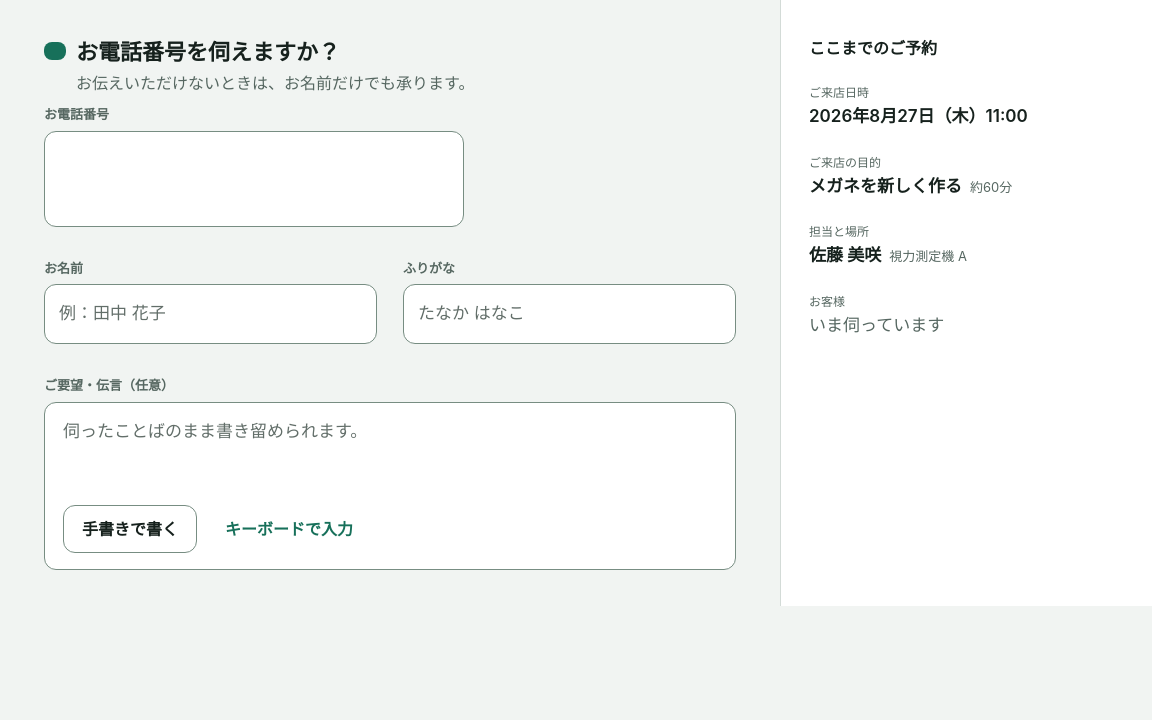
it: 手書き › 「手書きで書く」を押すと罫線つきの用紙が出る
Click the button "手書きで書く" at (130, 528), box 63,504 -> 197,552
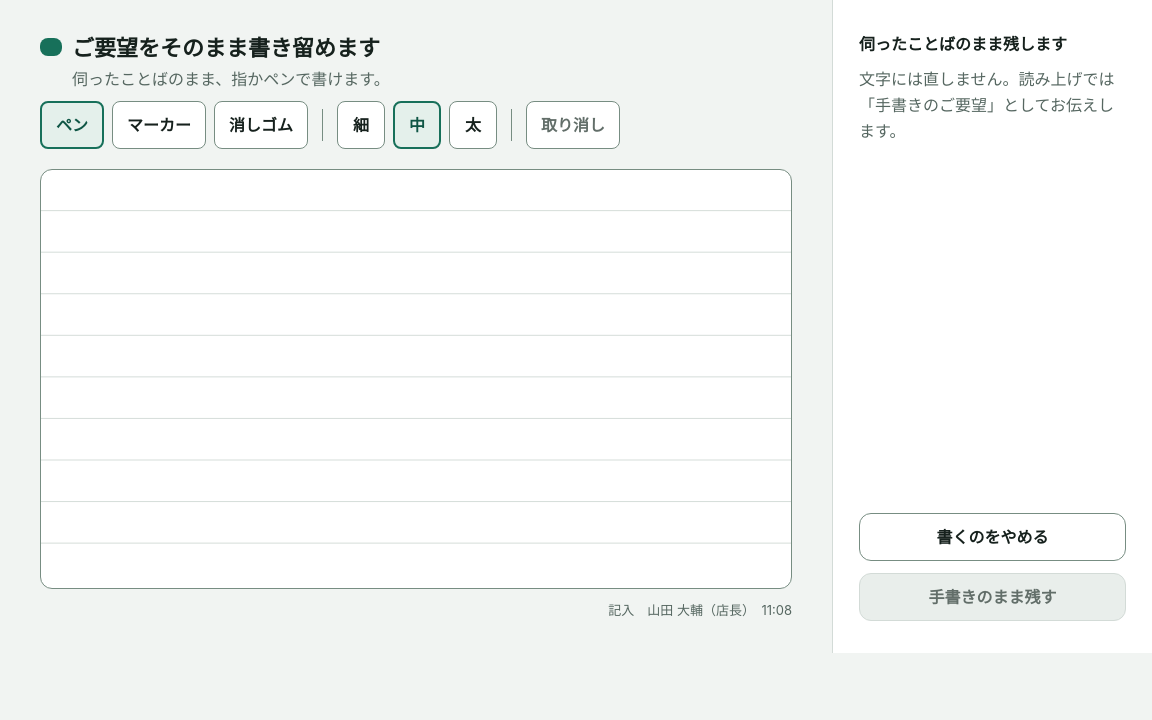
Expected: the picture with test id "handwriting-paper" is shown, 40,169 -> 792,589
Expected: the element named "ペンと太さ" is shown, 40,101 -> 620,149
